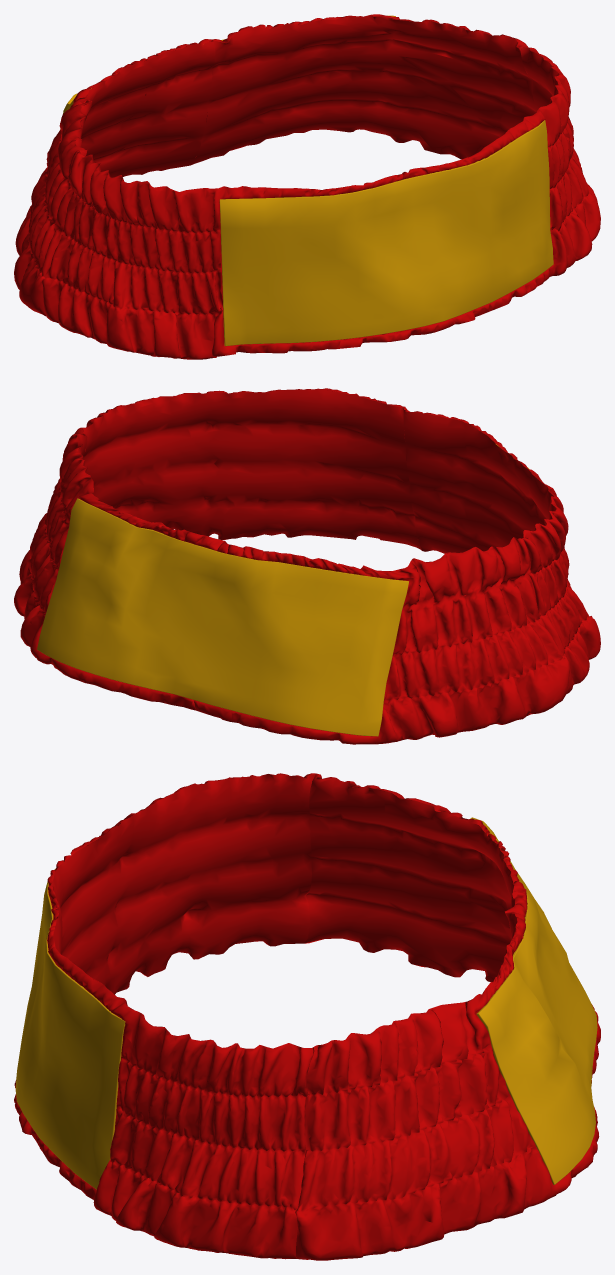
Rendered from BX_0_WAIST_4_inch_cf1cced7f4.glb.
3 renders of one model, top to bottom at view 1: azimuth 30°, elevation 25°; view 2: azimuth 150°, elevation 25°; view 3: azimuth 270°, elevation 25°, orthographic. The views are drawn at different scales.
Visible parts, largest first — view 1: BX_0_WAIST_4_inch_waist, BX_0_WAIST_4_inch_waist_logo; view 2: BX_0_WAIST_4_inch_waist, BX_0_WAIST_4_inch_waist_logo; view 3: BX_0_WAIST_4_inch_waist, BX_0_WAIST_4_inch_waist_logo.
Boxes of the visible parts, bbox=[...] form: BX_0_WAIST_4_inch_waist: bbox=[14, 14, 600, 359]; BX_0_WAIST_4_inch_waist_logo: bbox=[60, 15, 553, 346]; BX_0_WAIST_4_inch_waist: bbox=[14, 388, 600, 744]; BX_0_WAIST_4_inch_waist_logo: bbox=[37, 444, 528, 736]; BX_0_WAIST_4_inch_waist: bbox=[14, 773, 600, 1260]; BX_0_WAIST_4_inch_waist_logo: bbox=[15, 817, 597, 1189].
Size of the model in its own units: 3.81 by 1.1 by 2.87.
